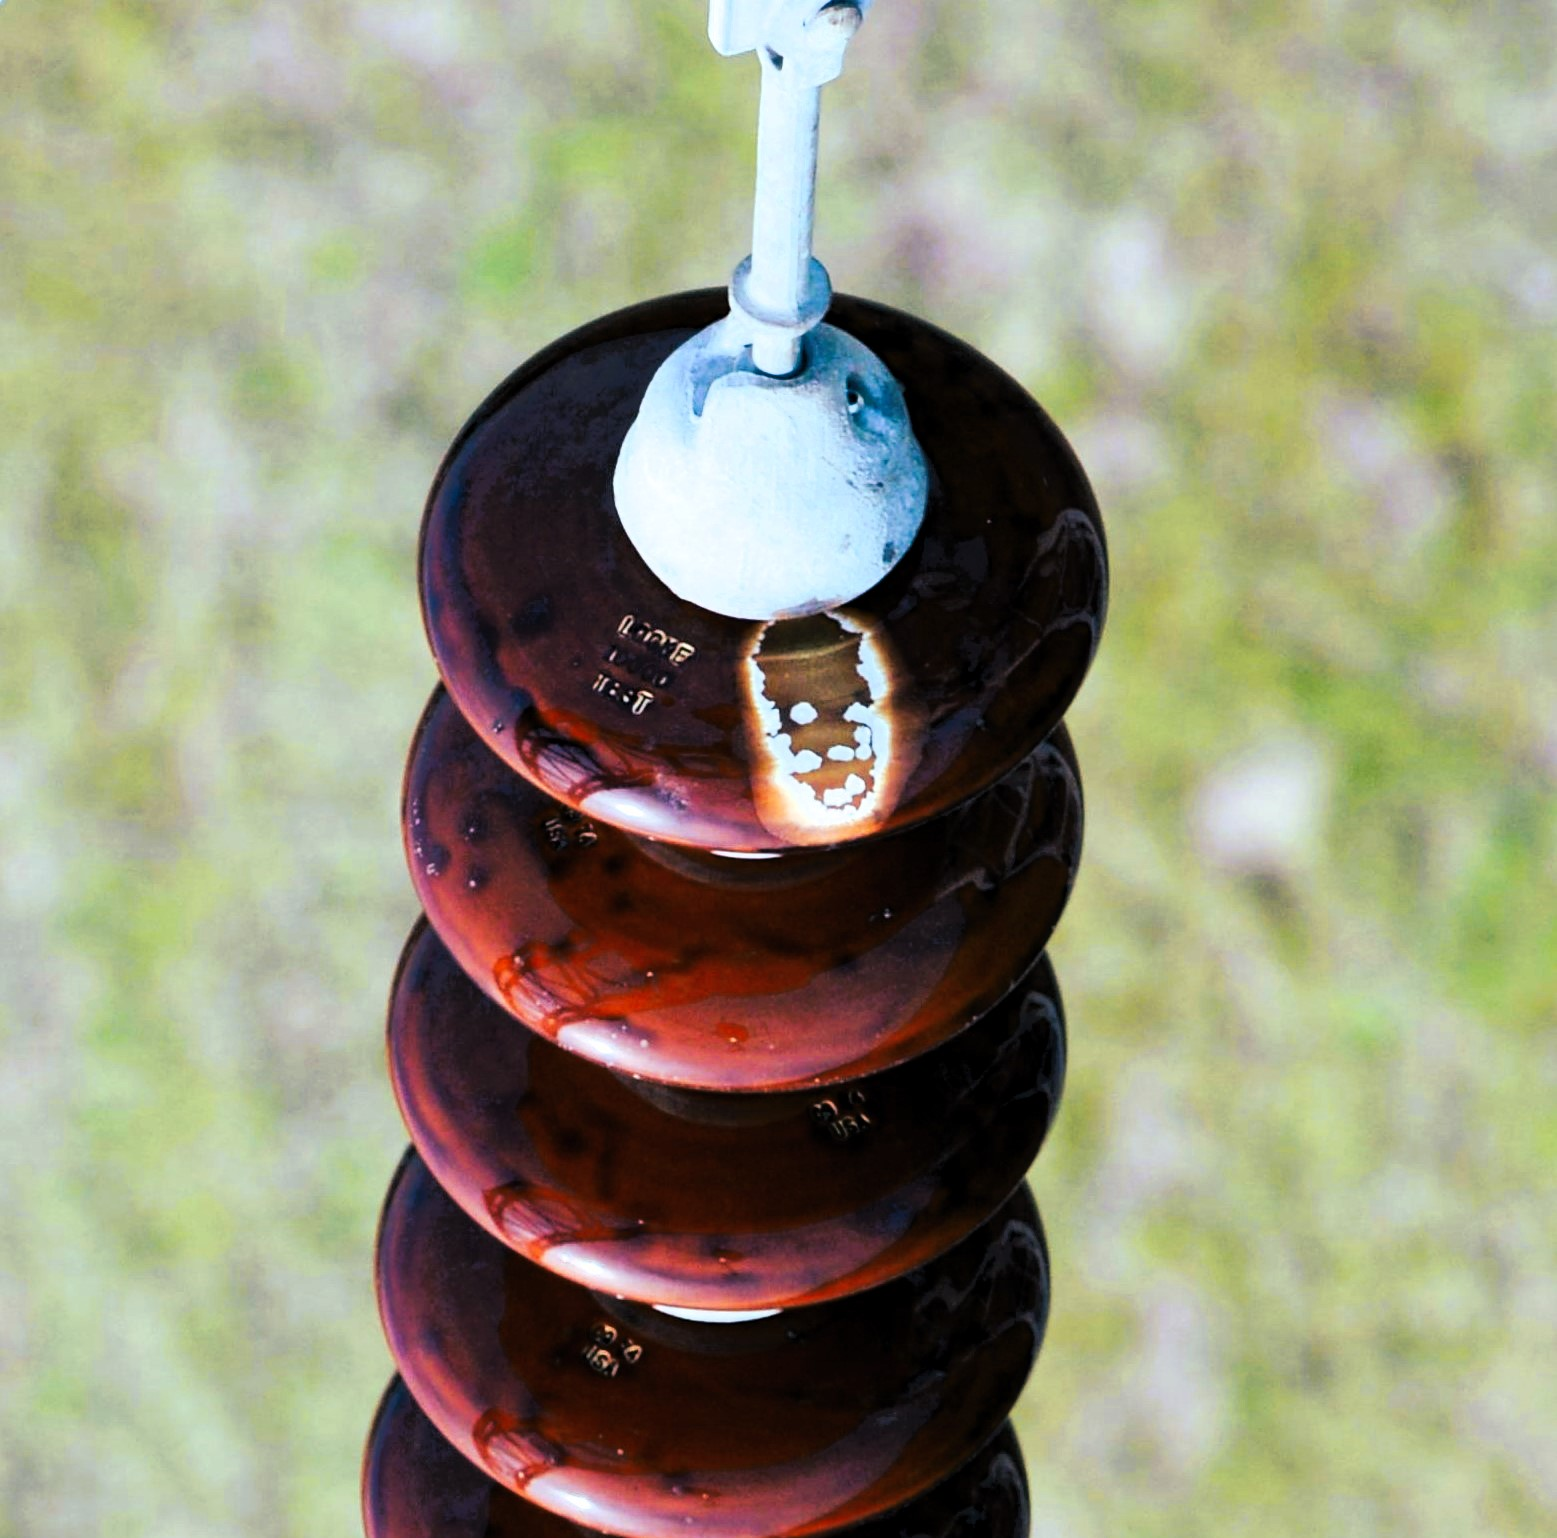Insulator flashover: (402, 282, 1116, 872)
